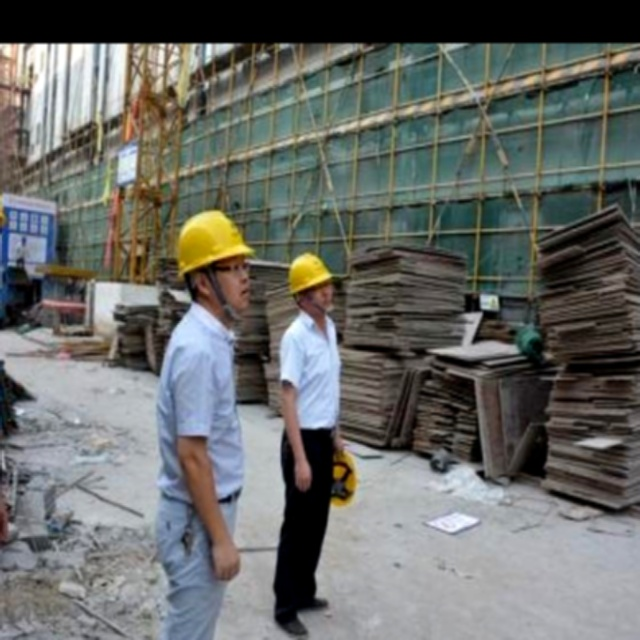Con_Casco: (178, 214, 258, 318)
Sin_Chaleco: (284, 319, 343, 429)
